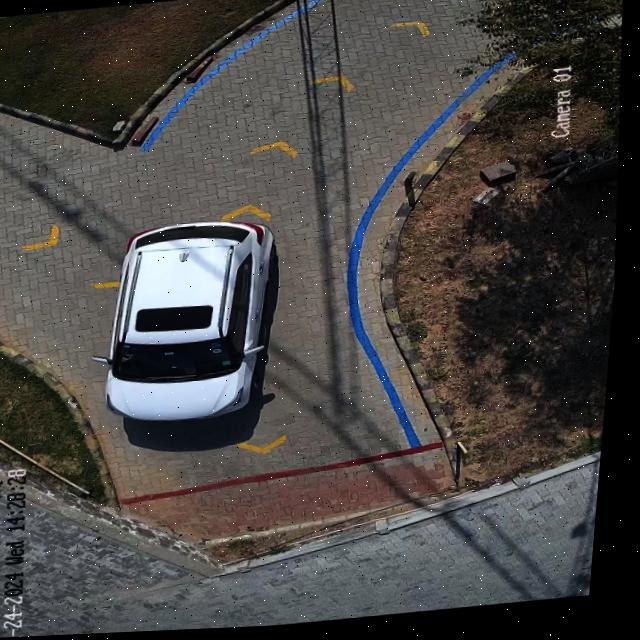car: (96, 222, 278, 422)
